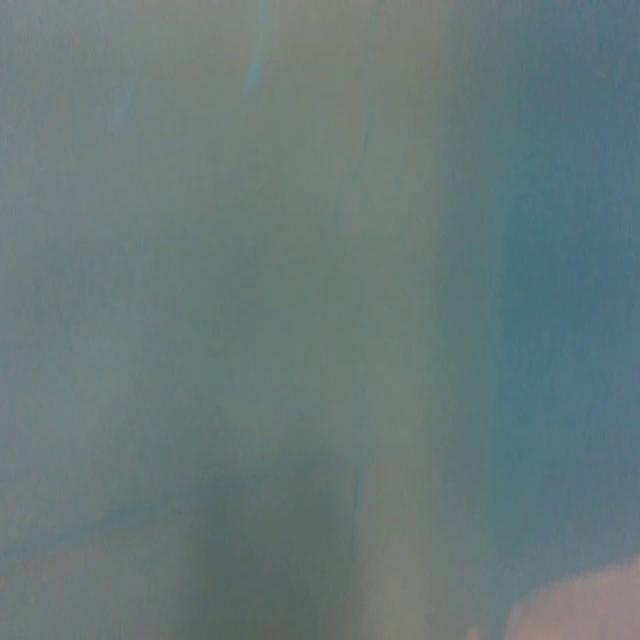plastic bags: (492, 543, 640, 640)
